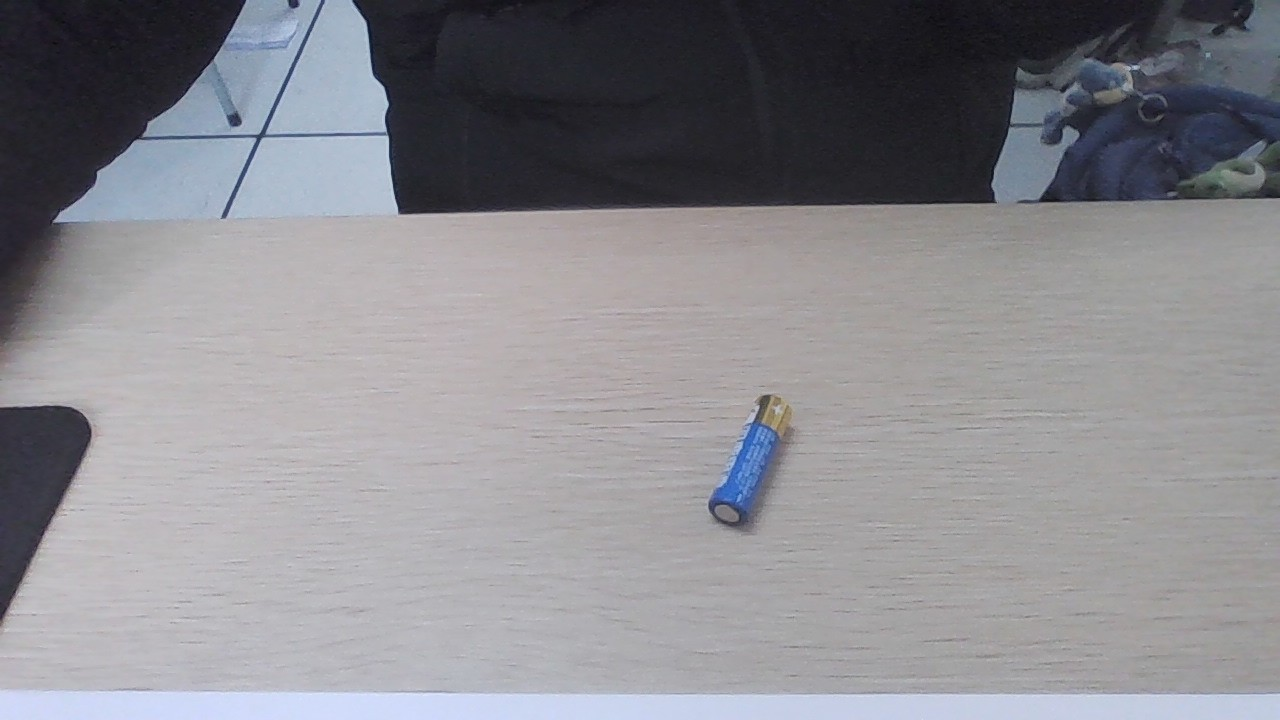YH-battery: (704, 393, 788, 526)
